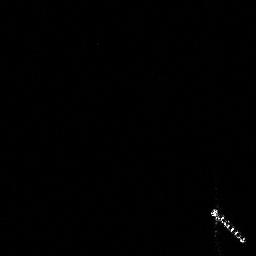ship: (208, 205, 247, 244)
